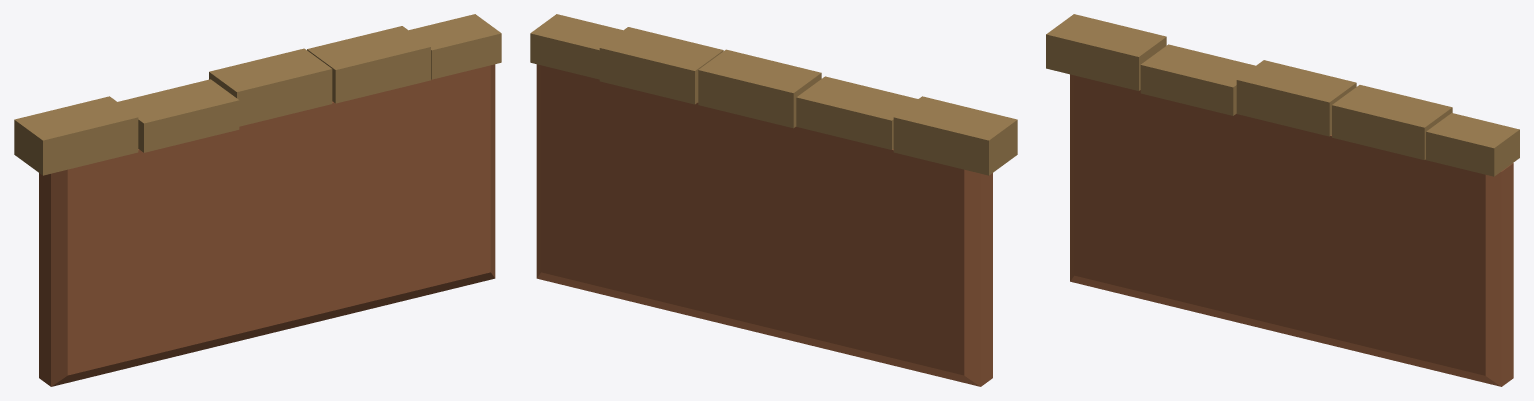
Rendered from 2x1RooftopWall.fbx.
3 views of the same model, side by side, from view 1: azimuth 30°, elevation 25°; view 2: azimuth 150°, elevation 25°; view 3: azimuth 330°, elevation 25° (orthographic). The views are drawn at different scales.
Parts seen in each view (by area): view 1: 2x1RooftopWall; view 2: 2x1RooftopWall; view 3: 2x1RooftopWall.
Part boxes in pixels (x1=…): 2x1RooftopWall: x1=14, y1=14, x2=501, y2=386; 2x1RooftopWall: x1=530, y1=14, x2=1017, y2=386; 2x1RooftopWall: x1=1046, y1=14, x2=1519, y2=386.
Size of the model in its own units: 218 by 116 by 25.66.
